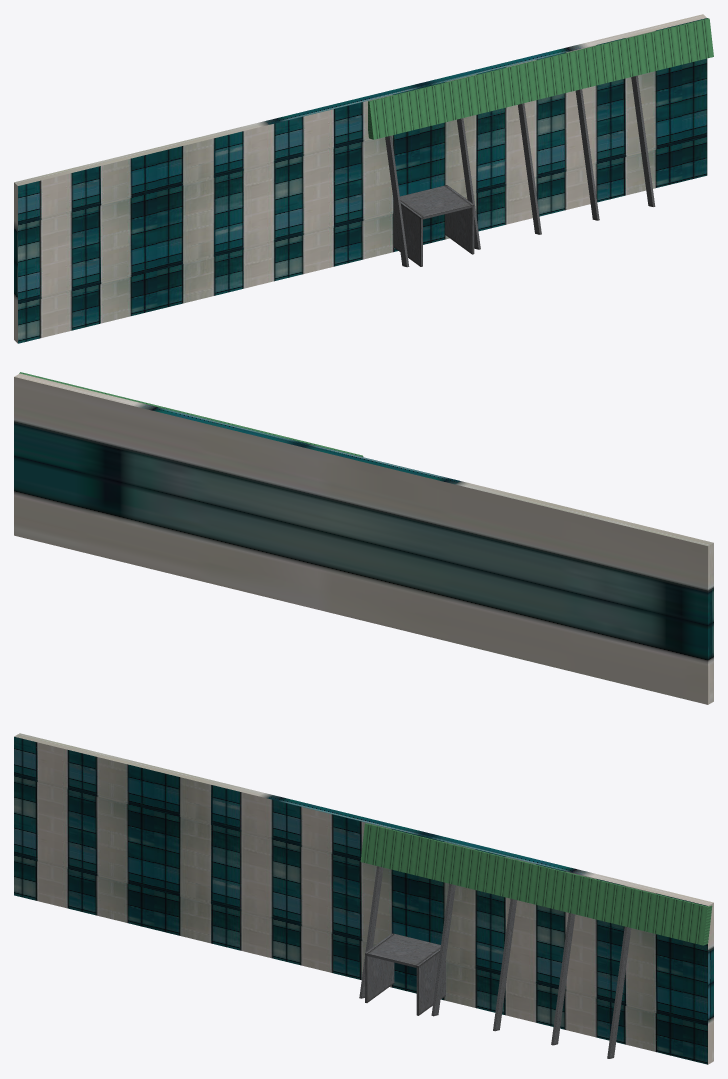
File: entrance.gltf
The picture shows the model from 3 angles, top to bottom: view 1: azimuth 30°, elevation 25°; view 2: azimuth 150°, elevation 25°; view 3: azimuth 330°, elevation 25°; orthographic projection.
Visible parts, largest first — view 1: EntranceBacksplash, EingangObenNeu, EntranceTop, EntranceLeft, EntranceRight, Pillar1.003, Pillar1.002, Pillar1.001, Pillar1.004, Pillar1; view 2: EntranceBacksplash, EingangObenNeu; view 3: EntranceBacksplash, EingangObenNeu, EntranceTop, EntranceRight, EntranceLeft, Pillar1, Pillar1.004, Pillar1.003, Pillar1.002, Pillar1.001.
Part boxes in pixels (box(x1,y1,x2,y2)): EntranceBacksplash: box(14, 14, 707, 343); EingangObenNeu: box(368, 18, 713, 139); EntranceTop: box(400, 185, 472, 219); EntranceLeft: box(393, 201, 422, 266); EntranceRight: box(445, 185, 474, 254); Pillar1.003: box(575, 89, 599, 220); Pillar1.002: box(518, 103, 541, 234); Pillar1.001: box(385, 135, 409, 267); Pillar1.004: box(631, 75, 655, 206); Pillar1: box(457, 118, 480, 249); EntranceBacksplash: box(14, 373, 713, 704); EingangObenNeu: box(19, 372, 363, 456); EntranceBacksplash: box(14, 733, 713, 1064); EingangObenNeu: box(360, 823, 712, 945); EntranceTop: box(367, 933, 440, 967); EntranceRight: box(416, 948, 445, 1015); EntranceLeft: box(365, 933, 394, 1002); Pillar1: box(431, 883, 455, 1016); Pillar1.004: box(607, 926, 631, 1058); Pillar1.003: box(551, 913, 575, 1045); Pillar1.002: box(493, 899, 516, 1031); Pillar1.001: box(359, 866, 383, 998).
Bounding box in the file's own units: 161 × 35.22 × 13.
10 materials, 10 textured.
